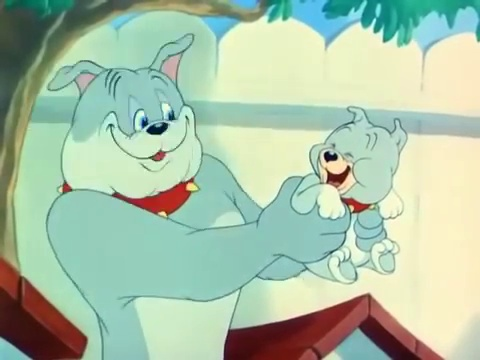spike: (43, 31, 206, 221)
